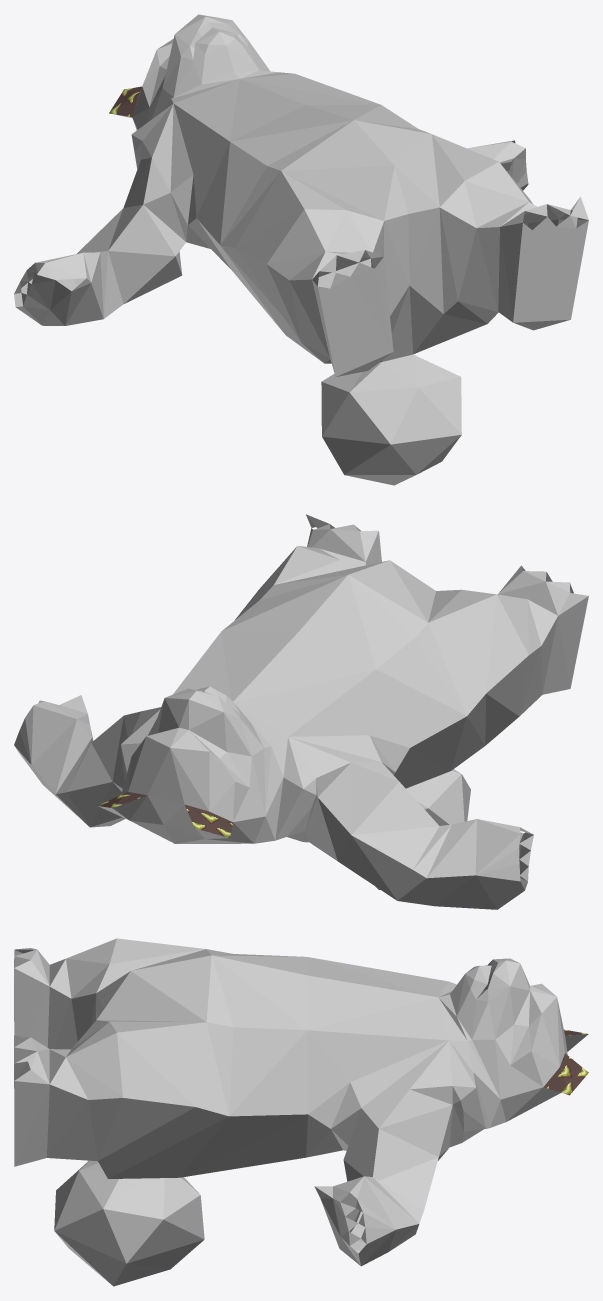
File: BR_Ursaring-Shiny01.obj
The picture shows the model from 3 angles, top to bottom: view 1: azimuth 30°, elevation 25°; view 2: azimuth 150°, elevation 25°; view 3: azimuth 270°, elevation 25°; orthographic projection. The views are drawn at different scales.
Parts seen in each view (by area): view 1: ringuma; view 2: ringuma; view 3: ringuma.
Boxes of the visible parts, x1,y1,x2,y2 form: ringuma: [14, 14, 588, 485]; ringuma: [14, 514, 588, 909]; ringuma: [14, 938, 588, 1286].
Bounding box in the file's own units: 18.68 × 11.52 × 18.6.
